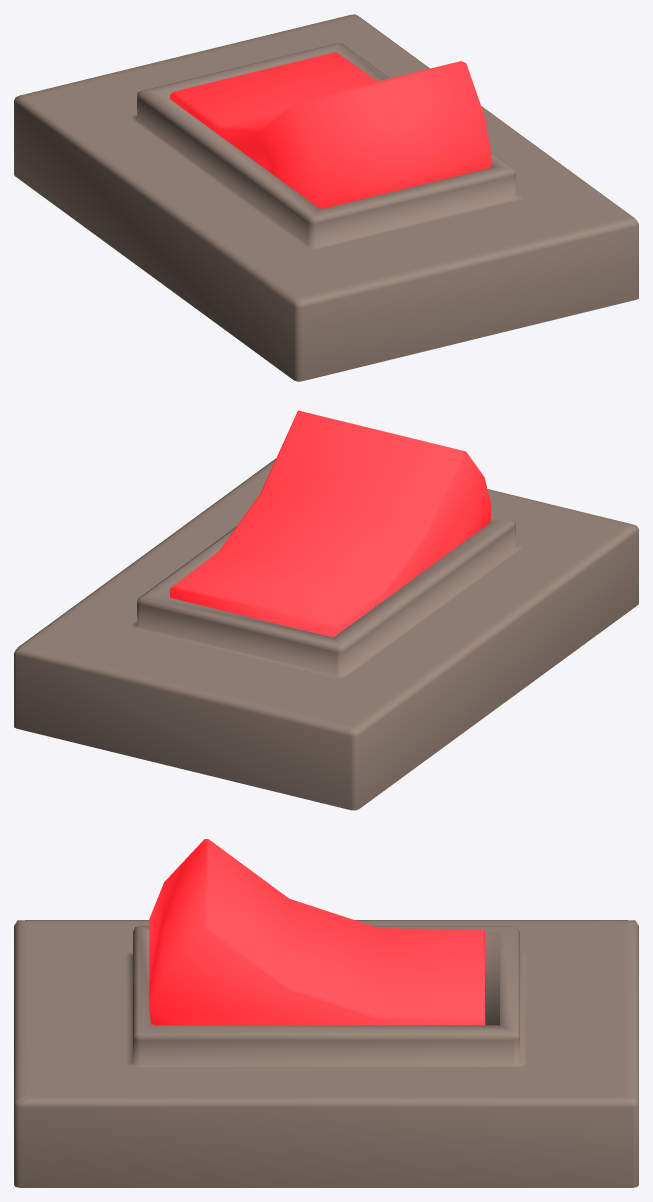
Rendered from RM-Button-TypeFrame.fbx.
3 views of the same model, one above another, from view 1: azimuth 30°, elevation 25°; view 2: azimuth 150°, elevation 25°; view 3: azimuth 270°, elevation 25° (orthographic). The views are drawn at different scales.
Visible parts, largest first — view 1: Toggle.Frame, Toggle.Button; view 2: Toggle.Frame, Toggle.Button; view 3: Toggle.Frame, Toggle.Button.
Part boxes in pixels (box(x1,y1,x2,y2)): Toggle.Frame: box(14, 14, 638, 381); Toggle.Button: box(170, 52, 491, 208); Toggle.Frame: box(14, 458, 638, 810); Toggle.Button: box(170, 410, 491, 637); Toggle.Frame: box(14, 920, 638, 1187); Toggle.Button: box(149, 839, 485, 1025).
Size of the model in its own units: 0.1394 by 0.077 by 0.2.
